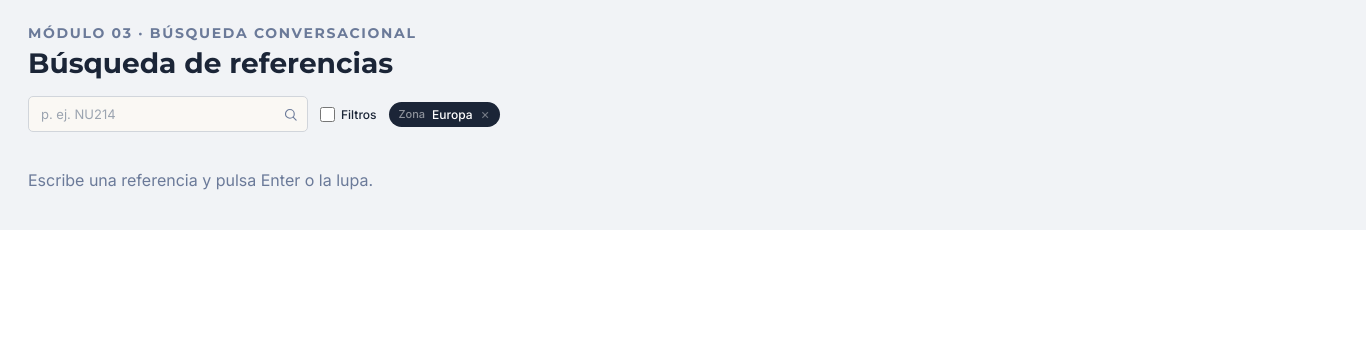
Test case: fase A · lista previa › caso 1.3: avisa de con qué cadena se ha buscado
The image size is (1366, 364).
Type "6204-2RX" into the search field named "Referencia". click: (168, 114)
box: x1=28 y1=96 x2=308 y2=132
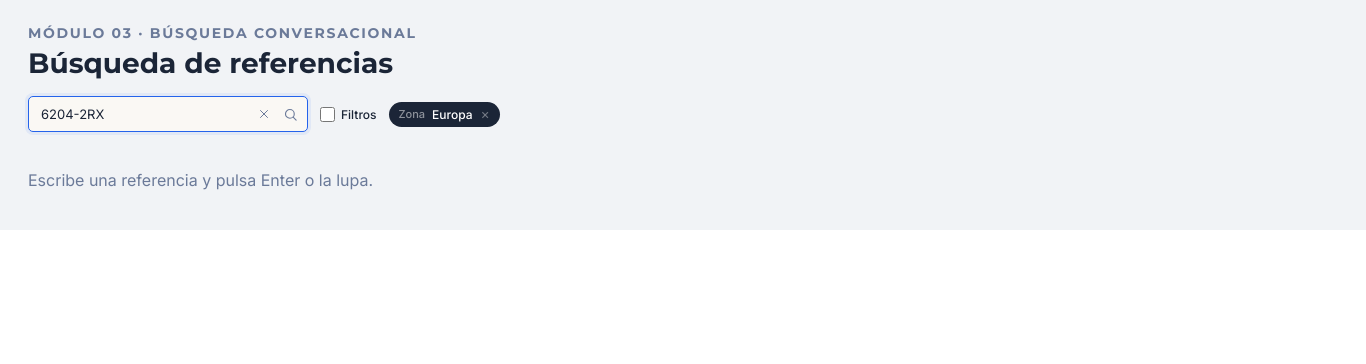
Click the button named "Buscar referencia". click: (290, 114)
box: x1=276 y1=100 x2=304 y2=128
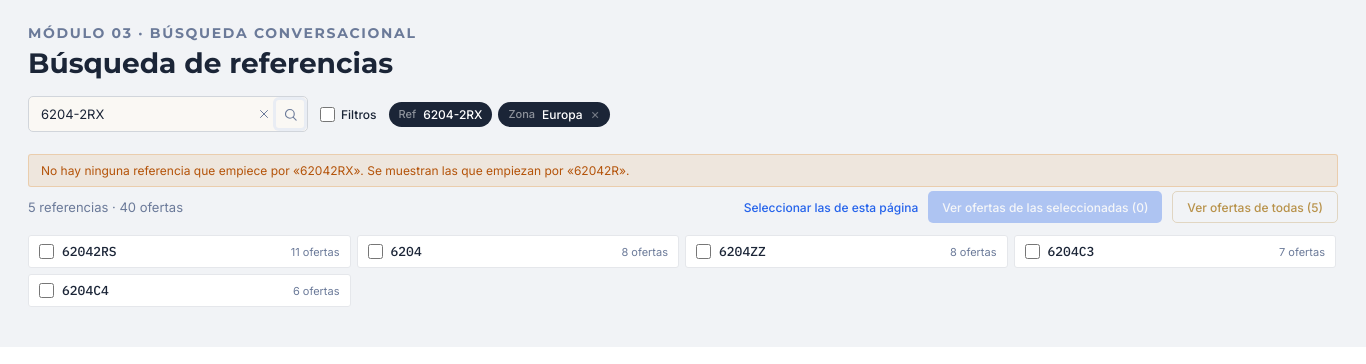
Check: the text "No hay ninguna referencia que empiece por «62042RX»" shows "Se muestran las que empiezan por «62042R».", box x1=28 y1=154 x2=1338 y2=187
